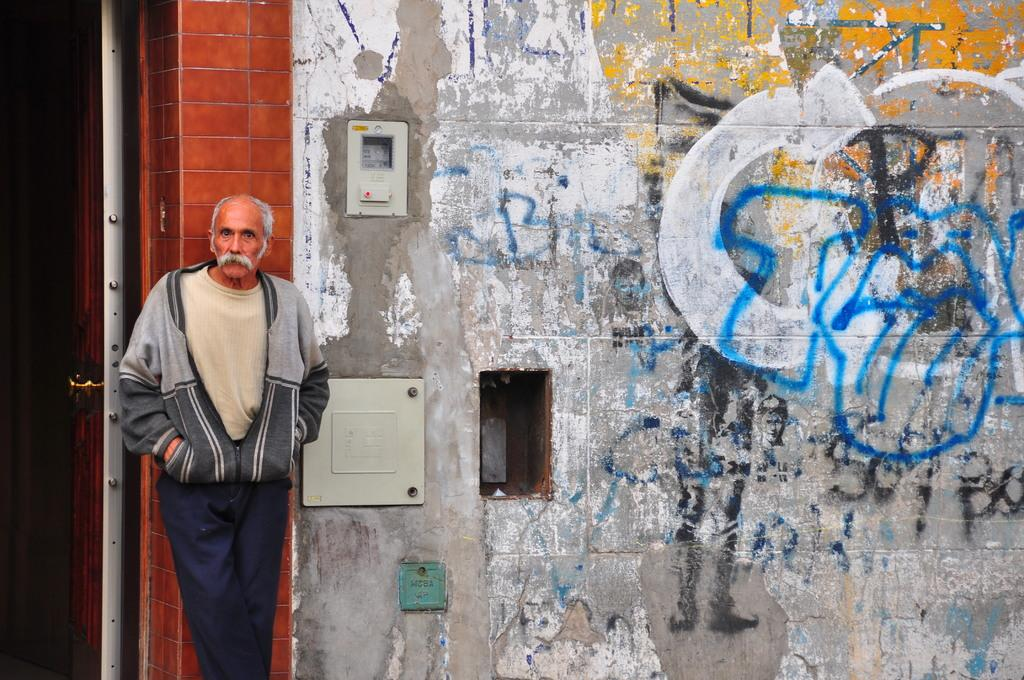handle: (66, 369, 108, 394)
